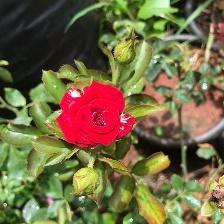rose: (56, 81, 137, 149)
